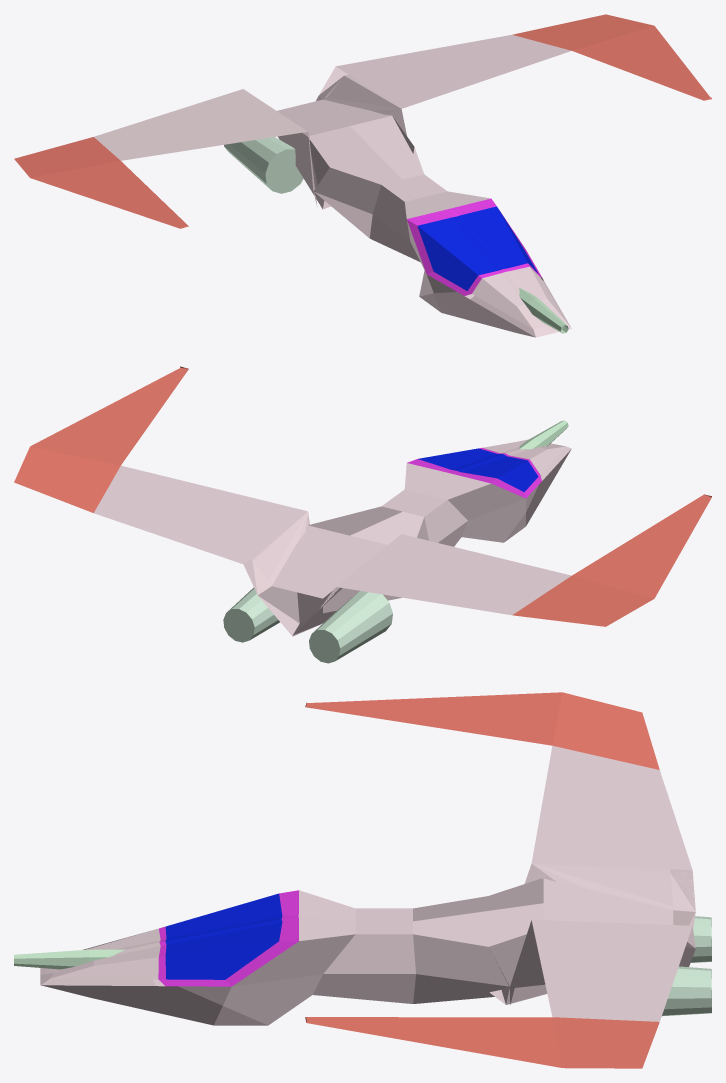
File: emenyModel2.fbx
The picture shows the model from 3 angles, top to bottom: view 1: azimuth 30°, elevation 25°; view 2: azimuth 150°, elevation 25°; view 3: azimuth 270°, elevation 25°; orthographic projection. The views are drawn at different scales.
Visible parts, largest first — view 1: body, turbins, gun; view 2: body, turbins, gun; view 3: body, turbins, gun.
Boxes of the visible parts, x1,y1,x2,y2 form: body: (14,14,711,337); turbins: (224,137,303,193); gun: (519,288,568,333); body: (14,366,711,636); turbins: (223,587,392,663); gun: (519,420,568,449); body: (40,692,695,1068); turbins: (662,916,711,1016); gun: (14,949,125,969).
Bounding box in the file's own units: 1132 × 195 × 888.
